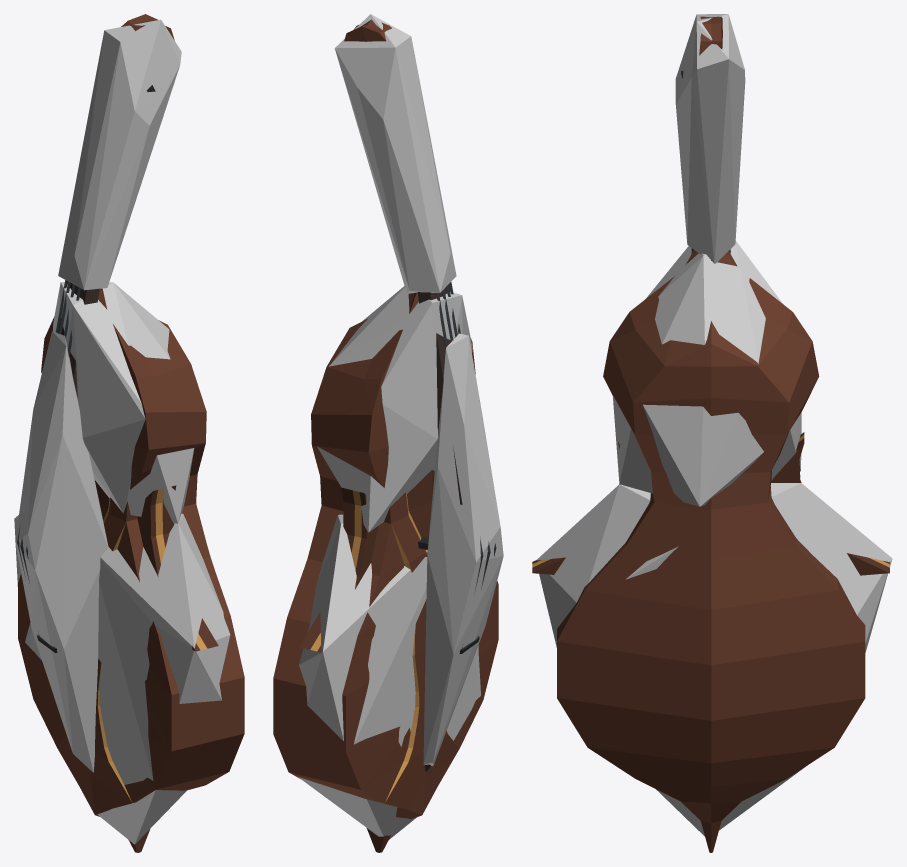
Rendered from SM_Item_Instrument_Cello_01.fbx.
3 renders of one model, left to right at view 1: azimuth 30°, elevation 25°; view 2: azimuth 150°, elevation 25°; view 3: azimuth 270°, elevation 25°, orthographic.
Parts seen in each view (by area): view 1: SM_Item_Instrument_Cello_01_ConvexHulls, SM_Item_Instrument_Cello_01; view 2: SM_Item_Instrument_Cello_01_ConvexHulls, SM_Item_Instrument_Cello_01; view 3: SM_Item_Instrument_Cello_01, SM_Item_Instrument_Cello_01_ConvexHulls.
Part boxes in pixels (<box>): SM_Item_Instrument_Cello_01_ConvexHulls: <box>14,19,230,844</box>; SM_Item_Instrument_Cello_01: <box>17,14,244,852</box>; SM_Item_Instrument_Cello_01_ConvexHulls: <box>298,14,503,839</box>; SM_Item_Instrument_Cello_01: <box>273,19,498,852</box>; SM_Item_Instrument_Cello_01: <box>532,16,889,852</box>; SM_Item_Instrument_Cello_01_ConvexHulls: <box>536,14,892,836</box>.
Size of the model in its own units: 40.17 by 63.96 by 164.
Materials: 2 (1 with a texture image).
